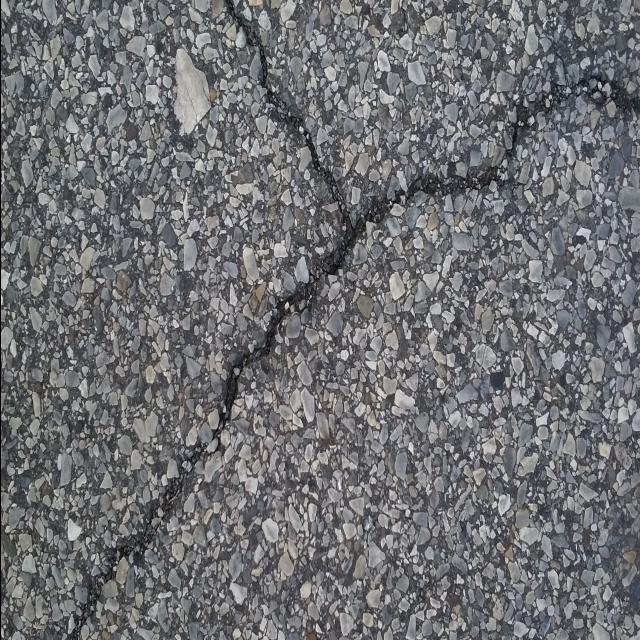Crack: (66, 0, 640, 638)
